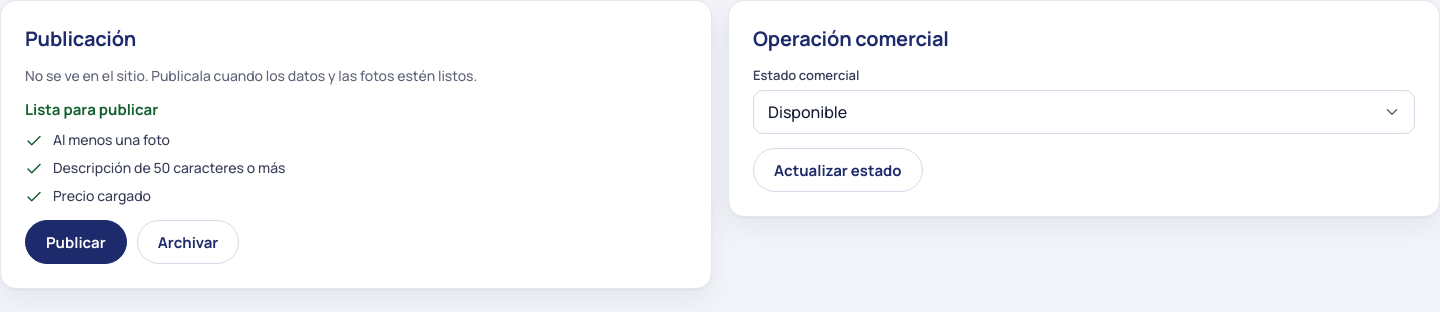
PropertyStatusPanel › shows action errors as alerts
The width and height of the screenshot is (1440, 312).
Click the button "Actualizar estado" at coordinates (838, 170), box [753,148,923,192]
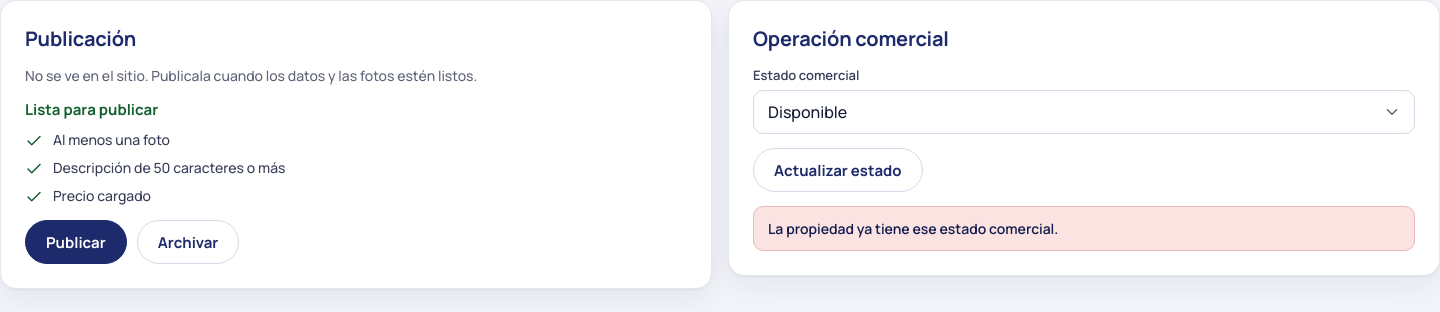
Expected: the message reads "La propiedad ya tiene ese estado comercial.", [768,219,1058,238]
